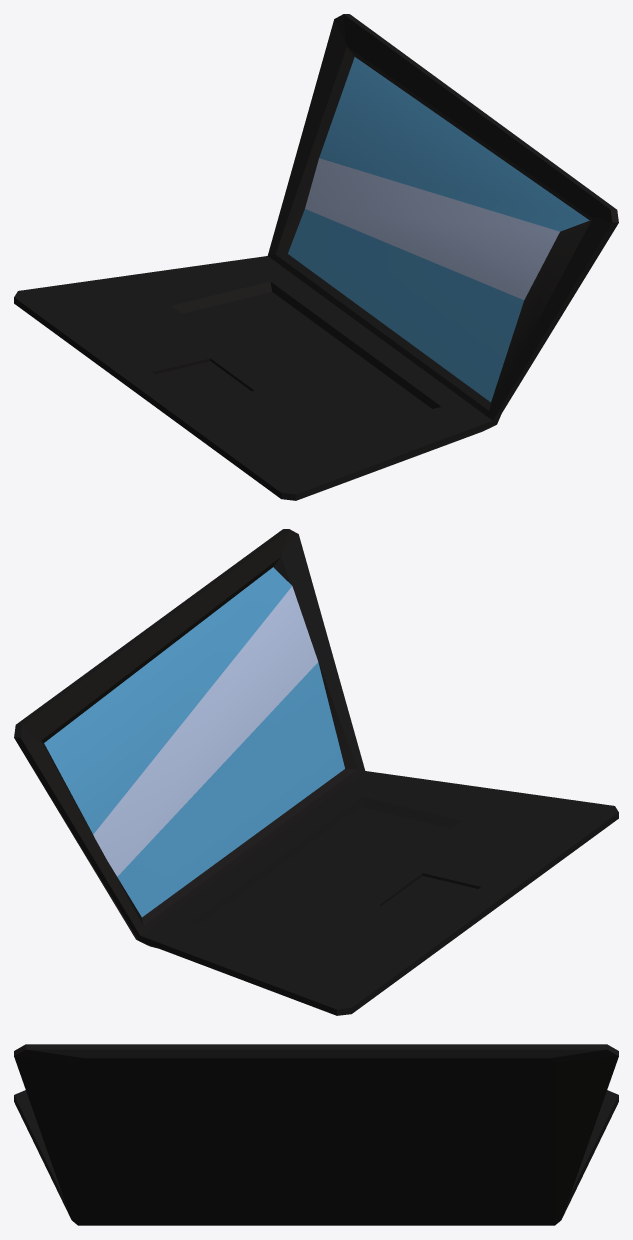
File: 01laptop_nieuwestijl.fbx
The picture shows the model from 3 angles, top to bottom: view 1: azimuth 30°, elevation 25°; view 2: azimuth 150°, elevation 25°; view 3: azimuth 270°, elevation 25°; orthographic projection. The views are drawn at different scales.
Visible parts, largest first — view 1: pCube91; view 2: pCube91; view 3: pCube91.
Boxes of the visible parts, x1,y1,x2,y2 form: pCube91: (14, 14, 618, 500); pCube91: (14, 529, 618, 1015); pCube91: (14, 1044, 618, 1225).
Bounding box in the file's own units: 0.6178 × 0.3769 × 0.8822.
